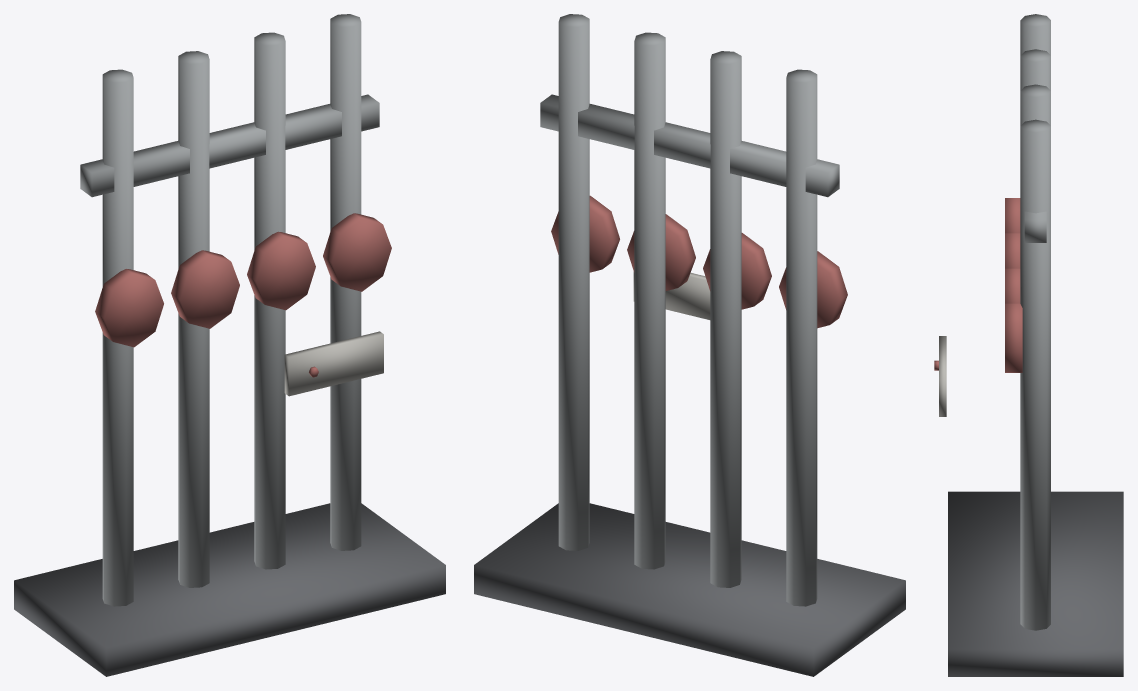
File: sprinkler_riser__tall.glb
3 views of the same model, side by side, from view 1: azimuth 30°, elevation 25°; view 2: azimuth 150°, elevation 25°; view 3: azimuth 270°, elevation 25° (orthographic). The views are drawn at different scales.
Visible parts, largest first — view 1: world; view 2: world; view 3: world.
Boxes of the visible parts, x1=… form: world: x1=14, y1=14, x2=445, y2=676; world: x1=474, y1=14, x2=905, y2=676; world: x1=934, y1=14, x2=1123, y2=676.
Size of the model in its own units: 0.85 by 1.32 by 0.431.
